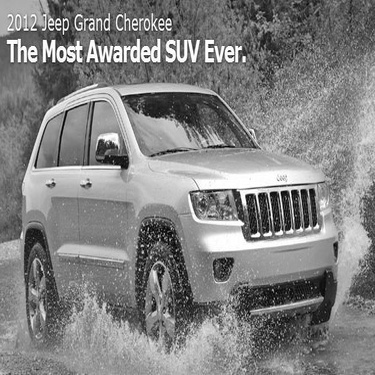car: (11, 70, 347, 354)
